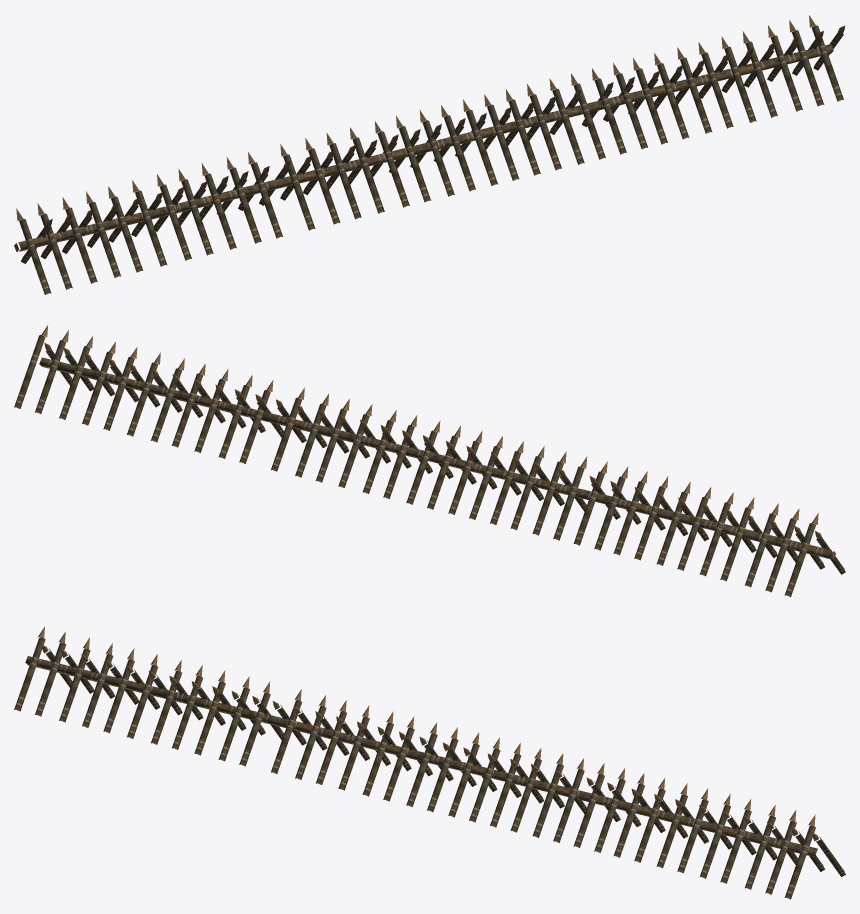
File: barricade_02.glb
3 views of the same model, one above another, from view 1: azimuth 30°, elevation 25°; view 2: azimuth 150°, elevation 25°; view 3: azimuth 330°, elevation 25° (orthographic). The views are drawn at different scales.
Parts seen in each view (by area): view 1: res\artifact\guild\barricade\barricade_02.bsr; view 2: res\artifact\guild\barricade\barricade_02.bsr; view 3: res\artifact\guild\barricade\barricade_02.bsr.
Part boxes in pixels (x1=…): res\artifact\guild\barricade\barricade_02.bsr: x1=14, y1=15, x2=845, y2=294; res\artifact\guild\barricade\barricade_02.bsr: x1=14, y1=324, x2=845, y2=596; res\artifact\guild\barricade\barricade_02.bsr: x1=14, y1=626, x2=845, y2=899.
Size of the model in its own units: 202 by 15.73 by 18.44.
Materials: 2 (2 with a texture image).
